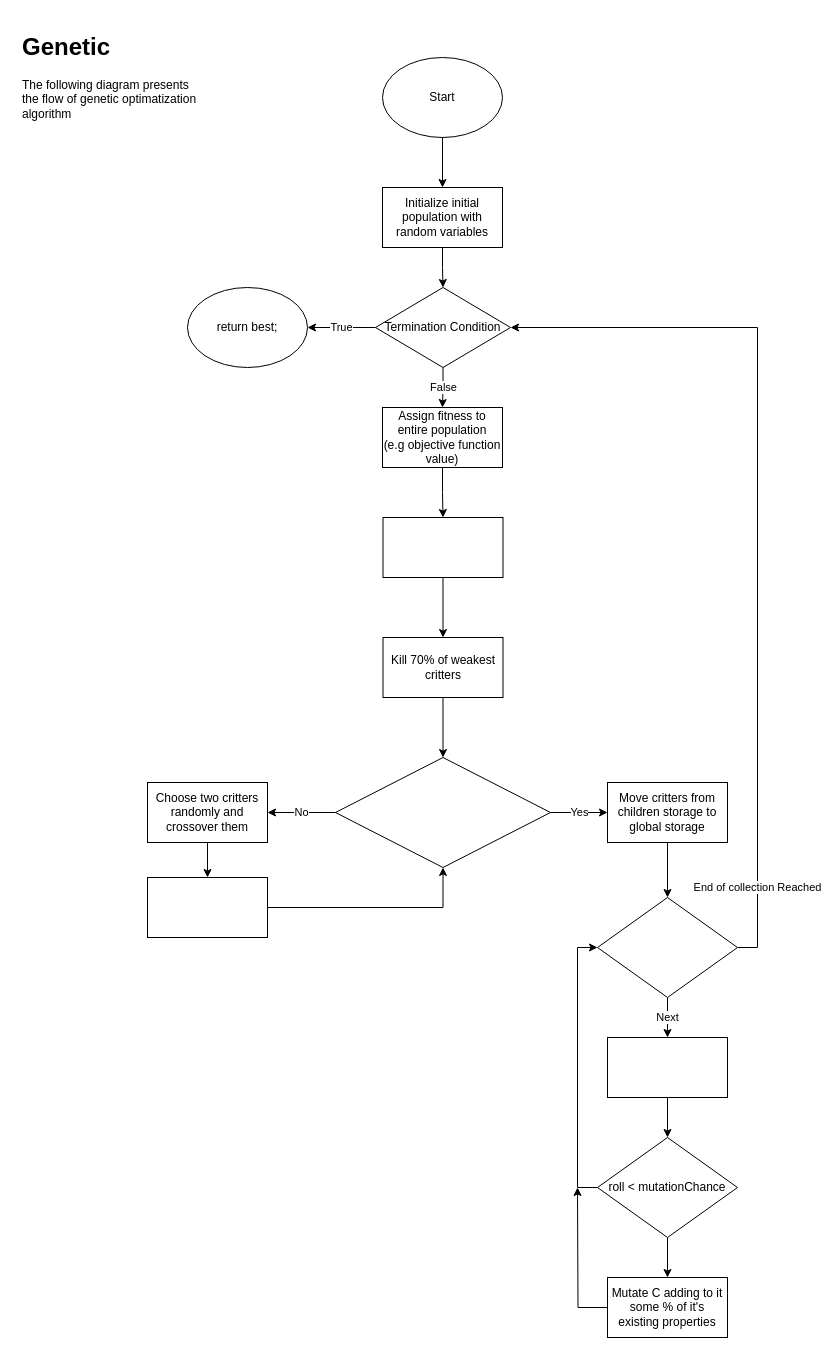
The diagram is 838 pixels wide and 1355 high, and some of its shapes have lost their labels. The shapes that lost their labels are listed below. From the top down, each one's box as (x1, y1, x2, y2) in pixels, then its label:
(382, 516, 503, 578): Sort population by fitness
(334, 756, 550, 868): population.Count + children.Count == Desired Population?
(146, 876, 268, 938): Add new critter to children storage
(596, 896, 738, 998): For each Critter C in population
(606, 1036, 728, 1098): Roll for mutation
